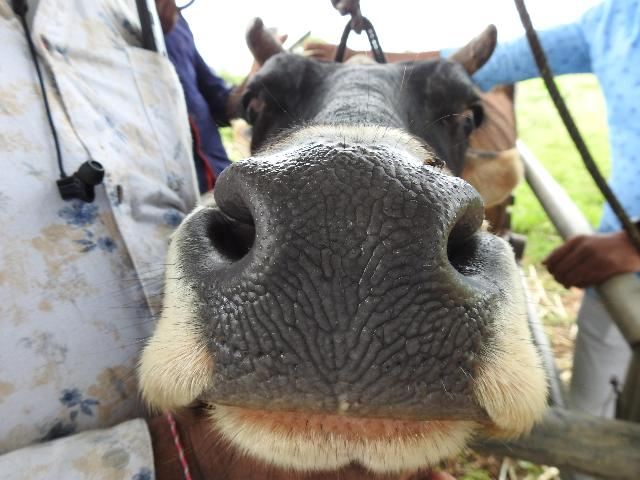Muzzle: (240, 162, 444, 390)
